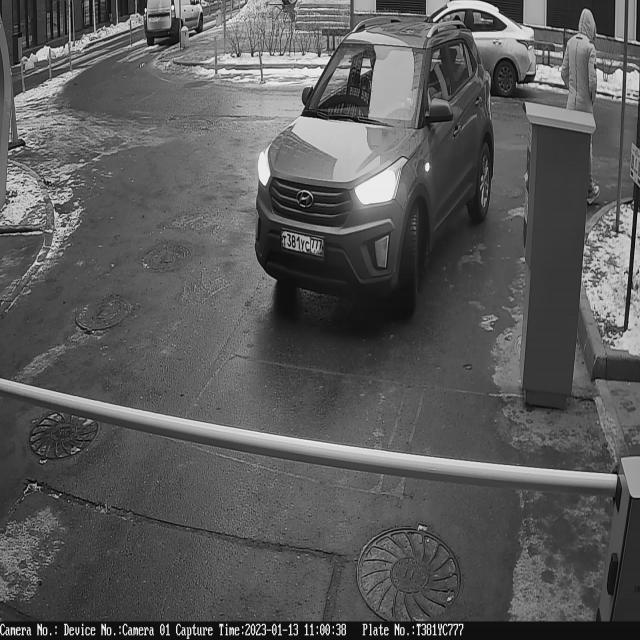car-plate-numbers: (279, 227, 326, 261)
